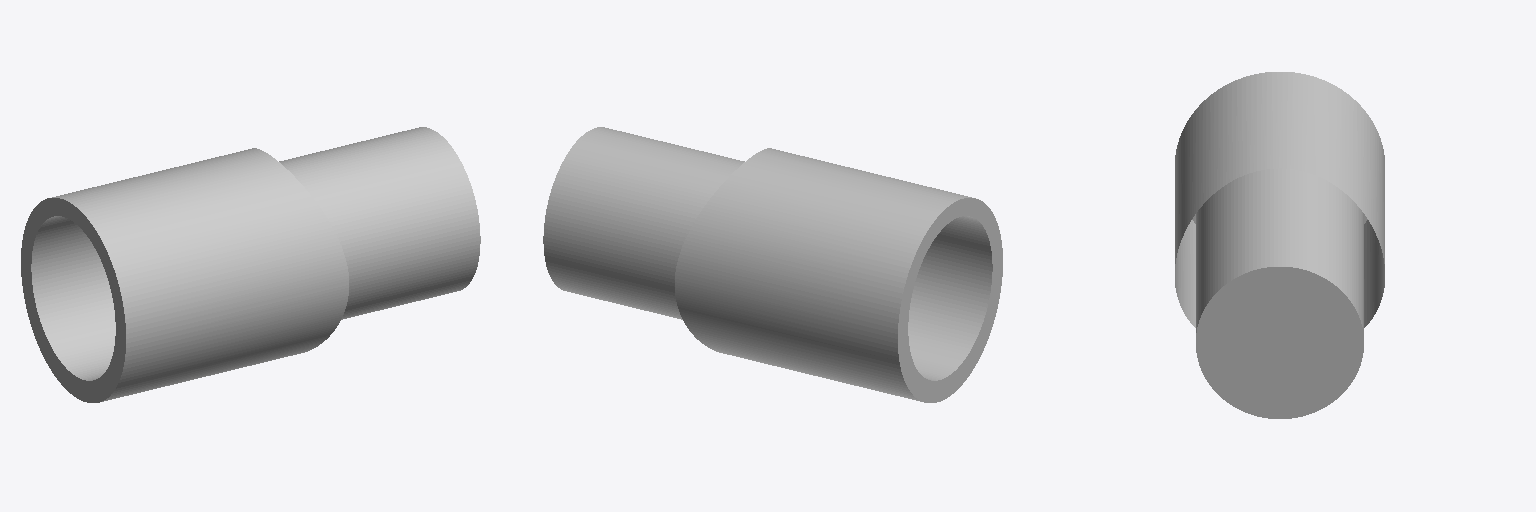
File: dryer_outlet_pipe.obj
The picture shows the model from 3 angles: view 1: azimuth 30°, elevation 25°; view 2: azimuth 150°, elevation 25°; view 3: azimuth 270°, elevation 25°; orthographic projection.
Visible parts, largest first — view 1: obj1; view 2: obj1; view 3: obj1.
Part boxes in pixels (bbox=[...]): obj1: bbox=[21, 127, 480, 402]; obj1: bbox=[543, 127, 1002, 402]; obj1: bbox=[1175, 72, 1384, 418].
Bounding box in the file's own units: 2 × 1 × 1.